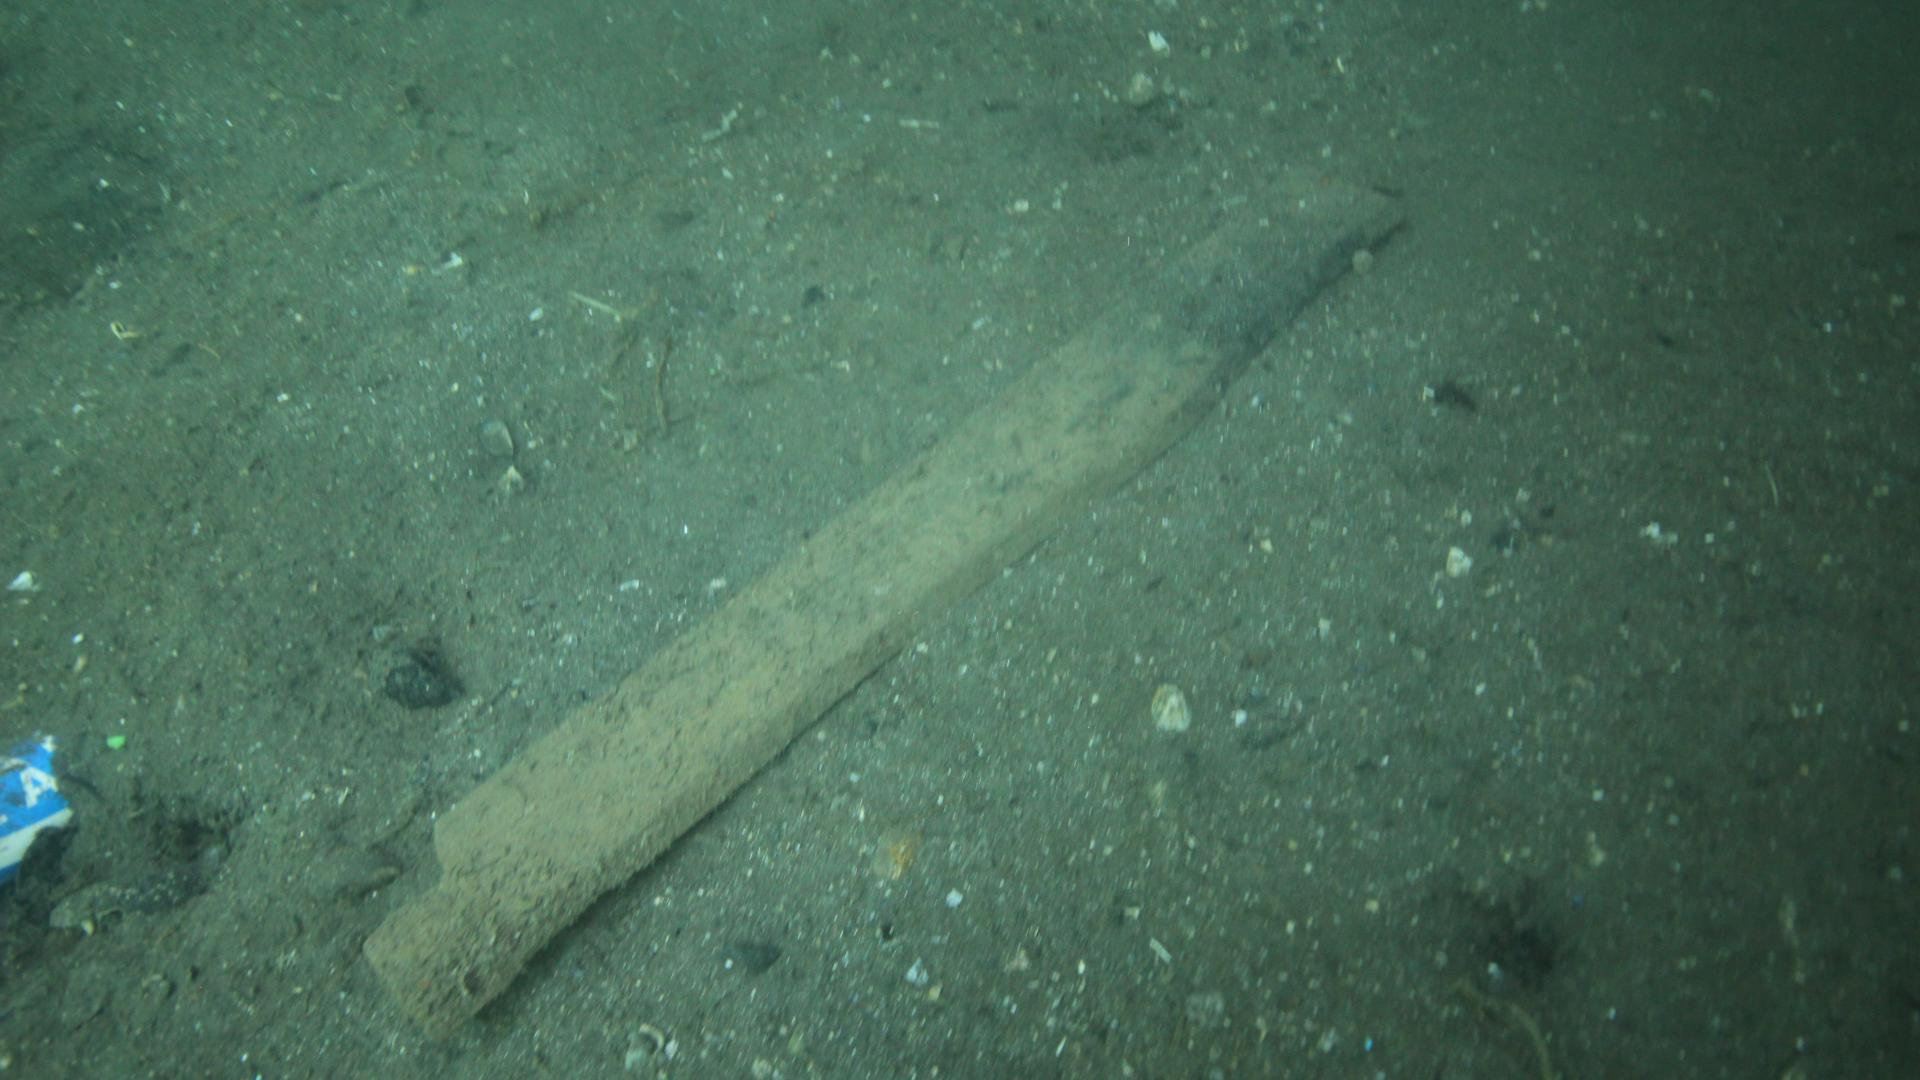wood: (359, 161, 1404, 1044)
